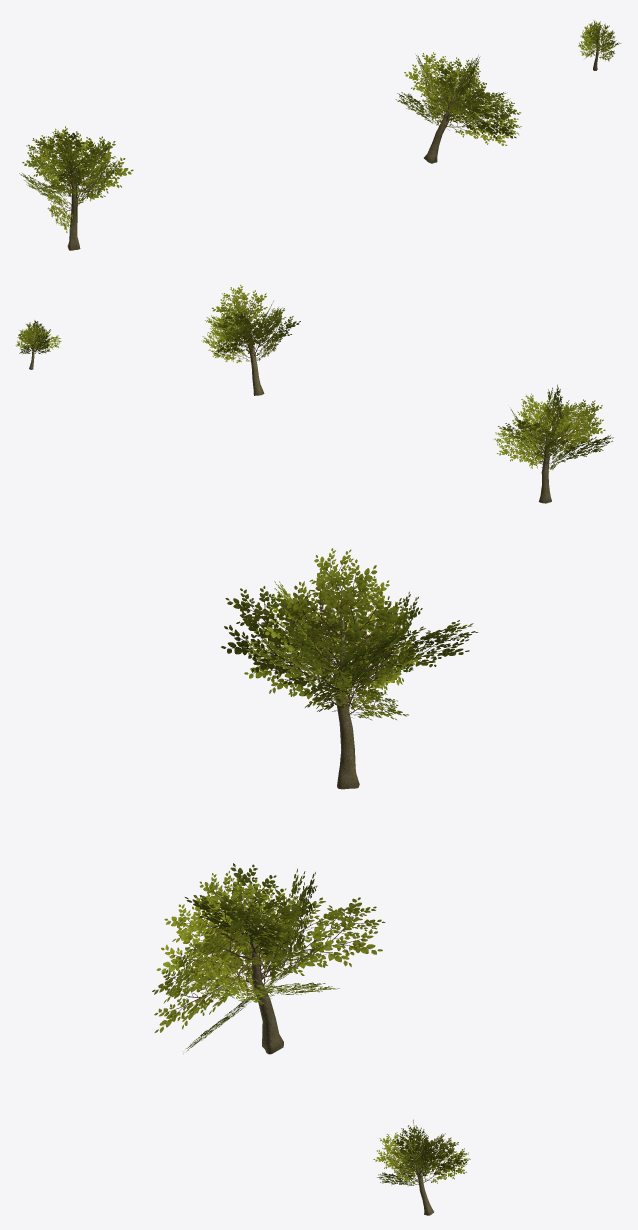
Rendered from Trees_2_Left_Far_COMBO.fbx.
The picture shows the model from 3 angles, top to bottom: view 1: azimuth 30°, elevation 25°; view 2: azimuth 150°, elevation 25°; view 3: azimuth 270°, elevation 25°; orthographic projection. The views are drawn at different scales.
Parts seen in each view (by area): view 1: Sun_0015_Large_tree_3_alt_green; view 2: Sun_0015_Large_tree_3_alt_green; view 3: Sun_0015_Large_tree_3_alt_green.
Boxes of the visible parts, left/top/right/bottom form: Sun_0015_Large_tree_3_alt_green: left=19, top=20, right=621, bottom=250; Sun_0015_Large_tree_3_alt_green: left=15, top=285, right=613, bottom=503; Sun_0015_Large_tree_3_alt_green: left=152, top=548, right=478, bottom=1215.
Size of the model in its own units: 149 by 30.43 by 39.17.
